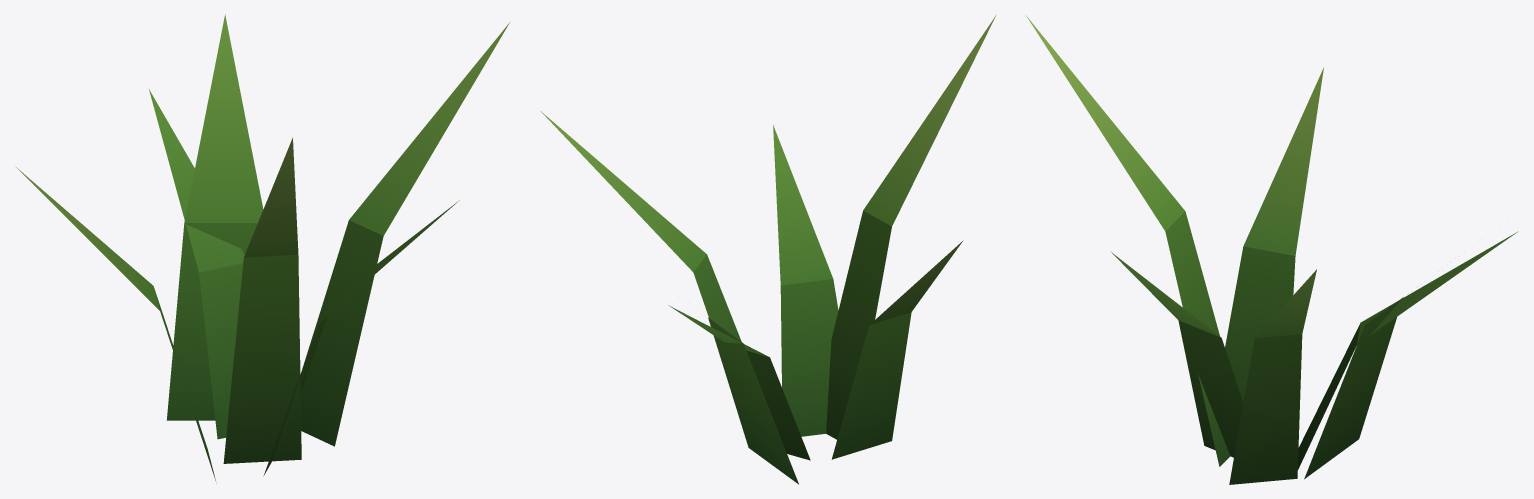
The model's file is grass_tuft.glb.
3 renders of one model, left to right at view 1: azimuth 30°, elevation 25°; view 2: azimuth 150°, elevation 25°; view 3: azimuth 270°, elevation 25°, orthographic. The views are drawn at different scales.
Visible parts, largest first — view 1: grass_tuft; view 2: grass_tuft; view 3: grass_tuft.
Part boxes in pixels (left/top/right/bottom): grass_tuft: left=15, top=14, right=509, bottom=480; grass_tuft: left=540, top=15, right=996, bottom=484; grass_tuft: left=1026, top=15, right=1518, bottom=484.
Size of the model in its own units: 0.4674 by 0.3851 by 0.4299.
